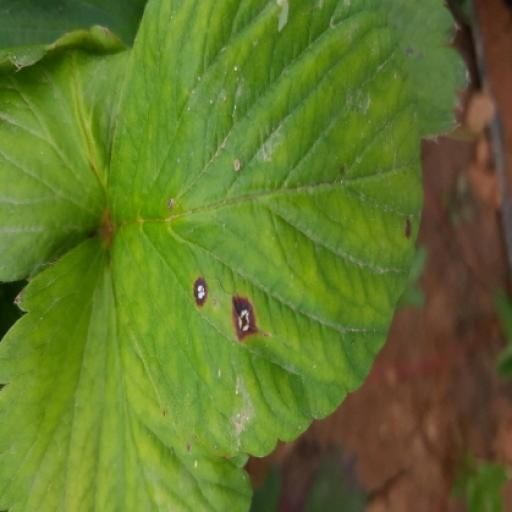Leaf Spot: (107, 54, 424, 511)
